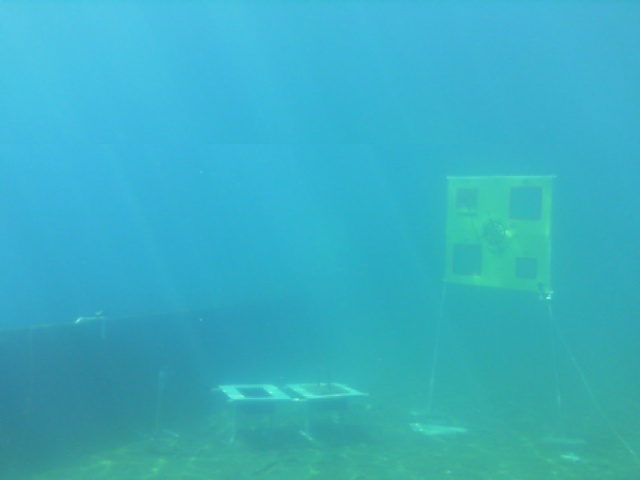bin: (218, 382, 294, 406), (291, 381, 366, 401)
bin_cover: (300, 371, 352, 401)
torpedo_cover: (453, 187, 479, 210)
torpedo_hole: (509, 185, 545, 222), (452, 243, 485, 277), (454, 186, 478, 216), (516, 257, 537, 281)
torpedo_target: (443, 174, 554, 299)
